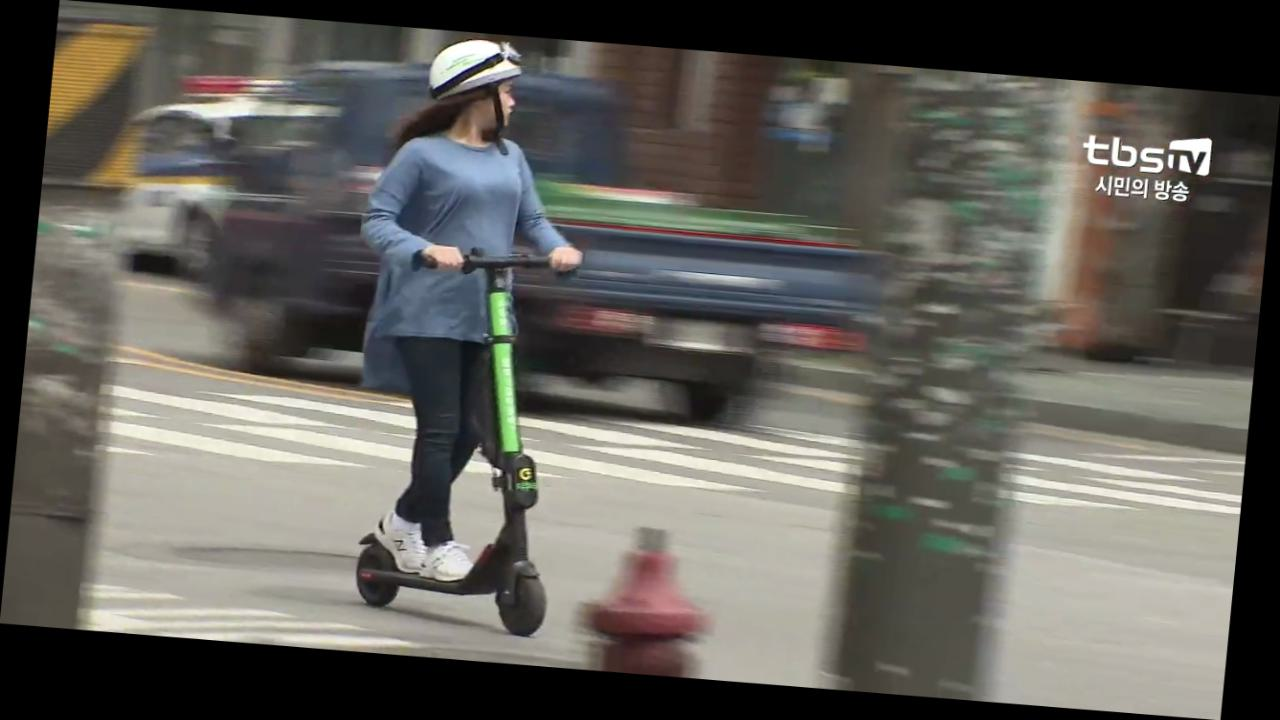helmet: (314, 29, 615, 643)
